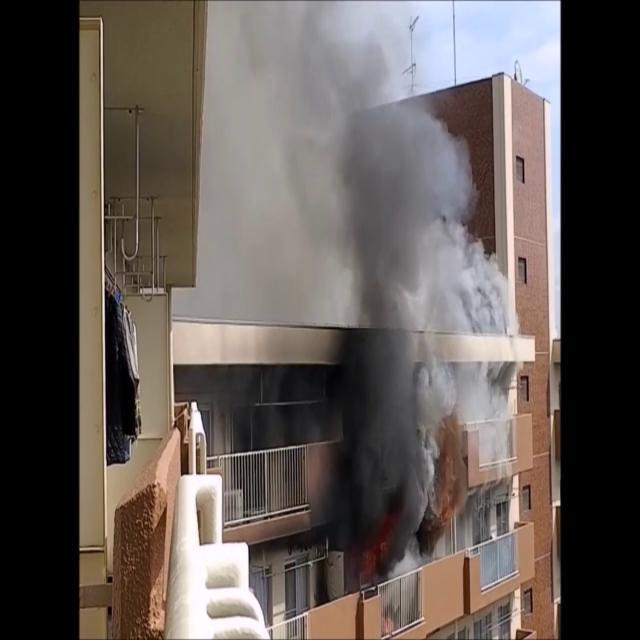Smoke: (192, 6, 514, 560)
